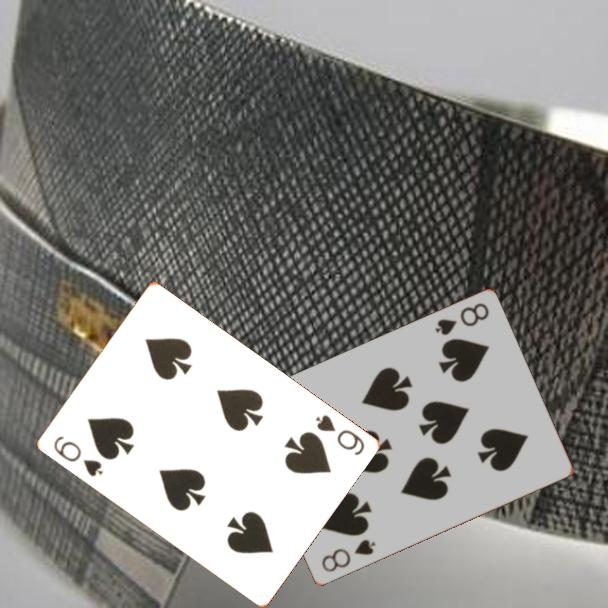s06: (49, 432, 106, 480), (311, 411, 367, 459)
s08: (318, 536, 379, 576), (431, 300, 492, 339)
